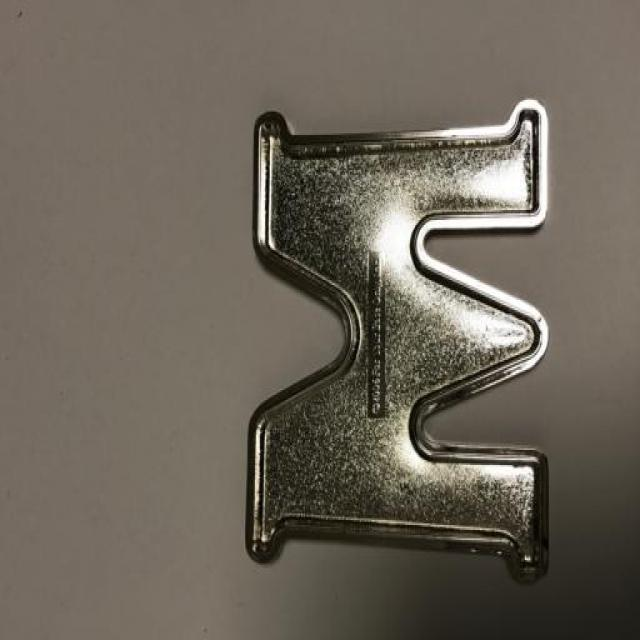others: (231, 67, 573, 582)
